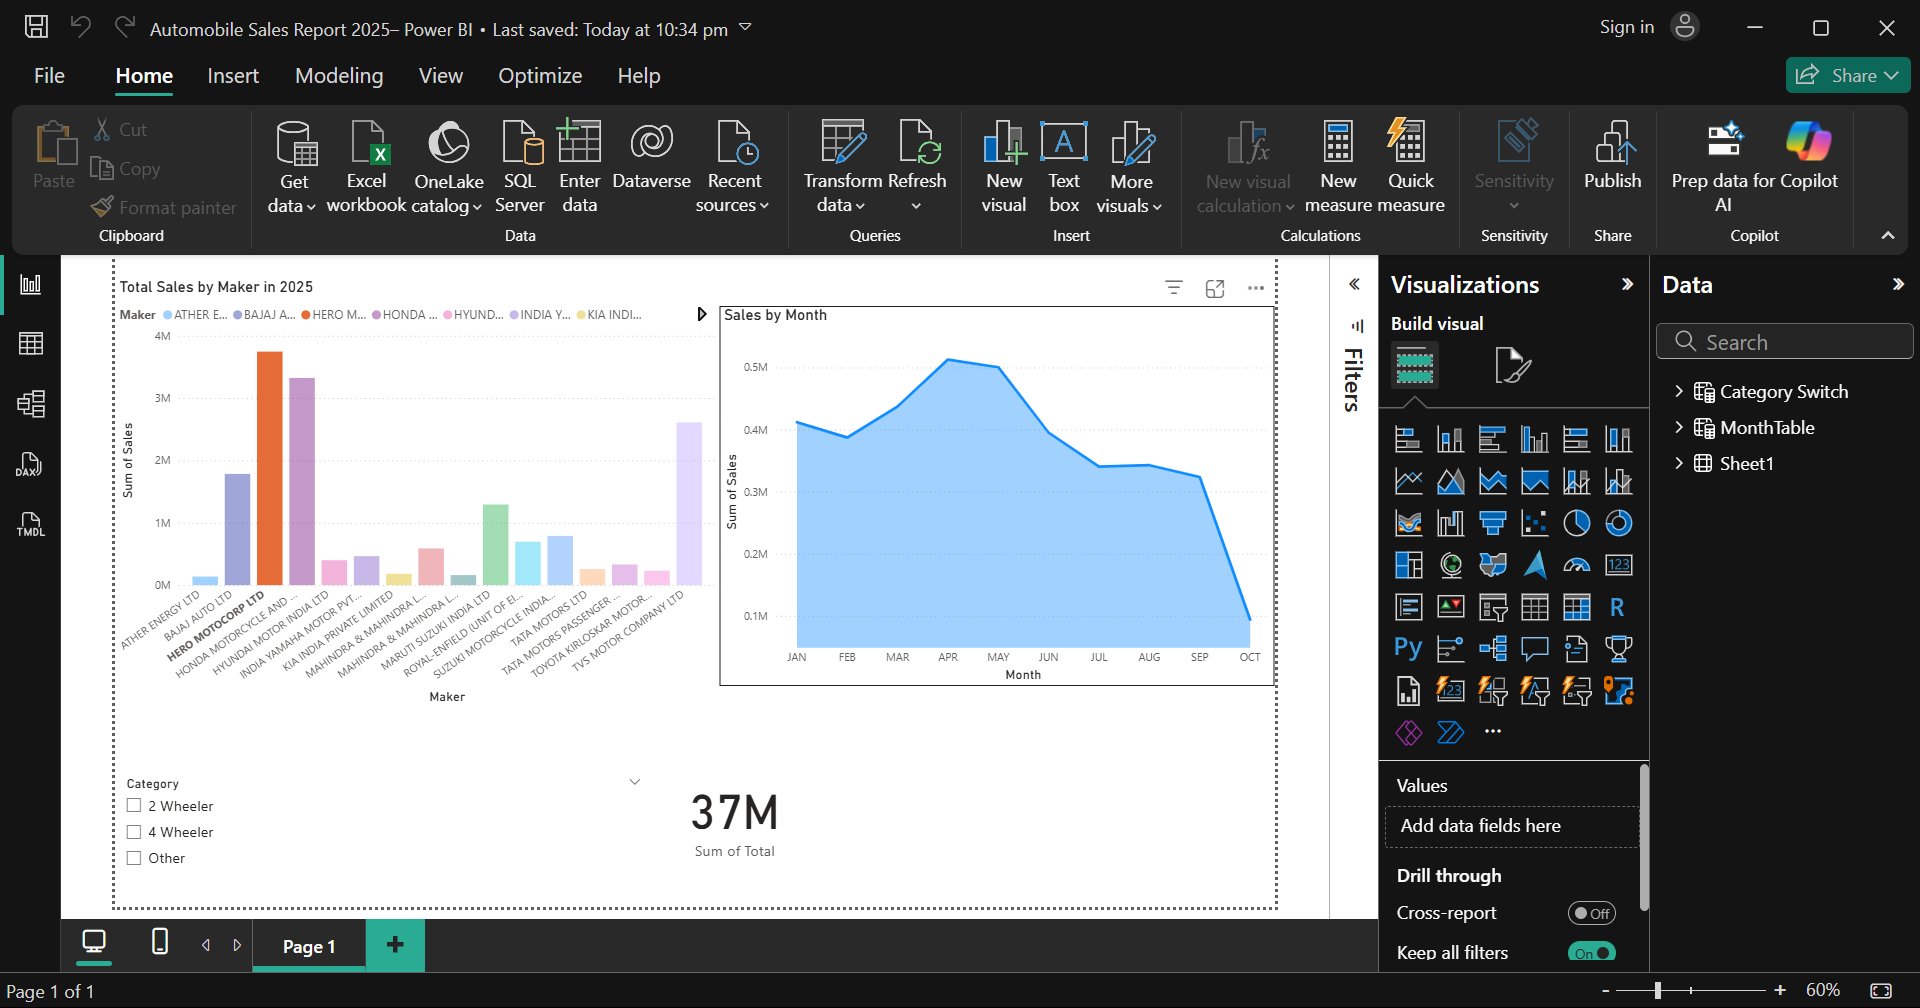

What the dashboard file says about the page in this screenshot:
{"tool":"powerbi","page":{"name":"Page 1","canvas":[1280,720],"ordinal":0},"visuals":[{"type":"clusteredColumnChart","fields":{"Category":["Sheet1.Maker","Sheet1.Month"],"Y":["Sum(Sheet1.Sales)"]},"box":[146.1,13.5,587.6,331.5],"z":0},{"type":"lineChart","fields":{"Y":["Sum(Sheet1.Sales)"],"Category":["MonthTable.Month"]},"box":[146.7,392.2,586.7,327.8],"z":1000}]}

Visuals, with their boxes on the page's 1280x720 design canvas (x1, y1, x2, y2). These are canvas units, not pixel positions in the 1920x1008 screenshot, which may show the page scaled, cropped or inside an application window:
clusteredColumnChart - Sheet1.Maker x Sheet1.Month: x1=146 y1=14 x2=734 y2=345
lineChart - Sum(Sheet1.Sales) x MonthTable.Month: x1=147 y1=392 x2=733 y2=720
